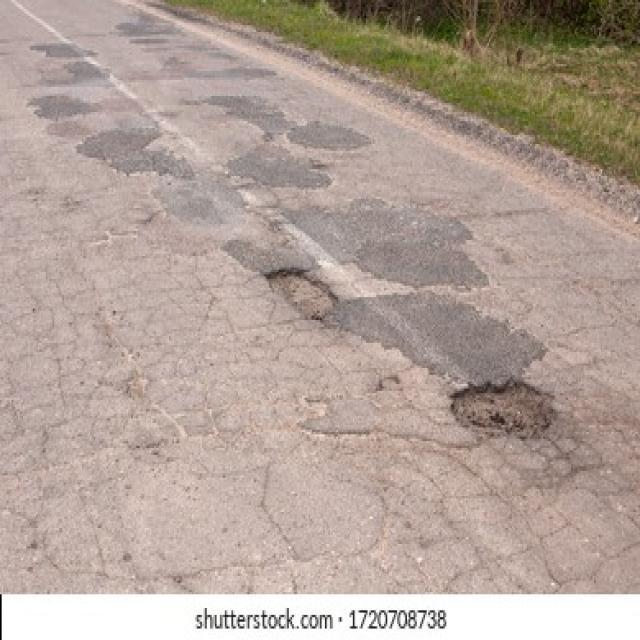Pothole: (449, 375, 554, 439), (262, 268, 336, 324)
